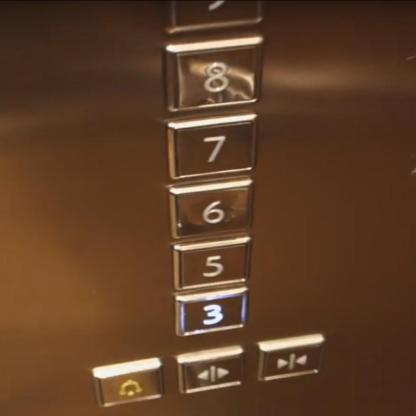3: (175, 287, 248, 335)
5: (174, 232, 252, 290)
6: (170, 177, 254, 240)
7: (168, 109, 261, 179)
8: (161, 34, 267, 114)
alarm: (91, 357, 163, 407)
close: (253, 332, 324, 381)
open: (174, 345, 244, 399)
